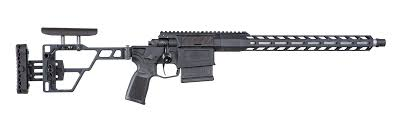gun: (12, 26, 388, 106)
